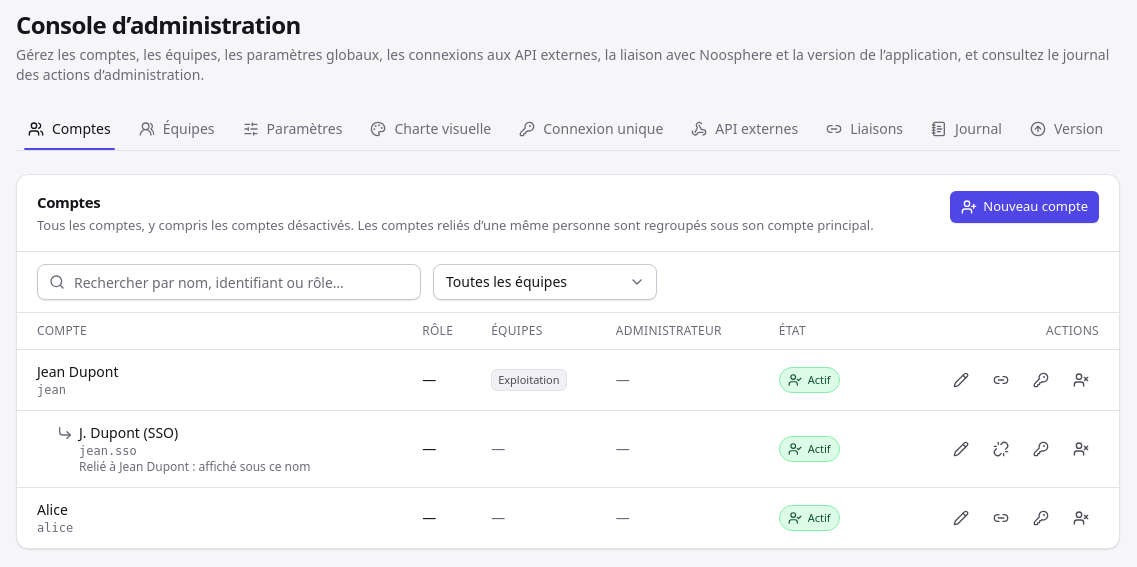
Test: Console d’administration › filtre les comptes par équipe, au niveau de la personne
The image size is (1137, 567).
expect the text "Alice" is shown: met, box x1=37 y1=500 x2=73 y2=520
Select "Exploitation" in the dropdown named "Filtrer par équipe" at (545, 282), box x1=433 y1=264 x2=657 y2=300
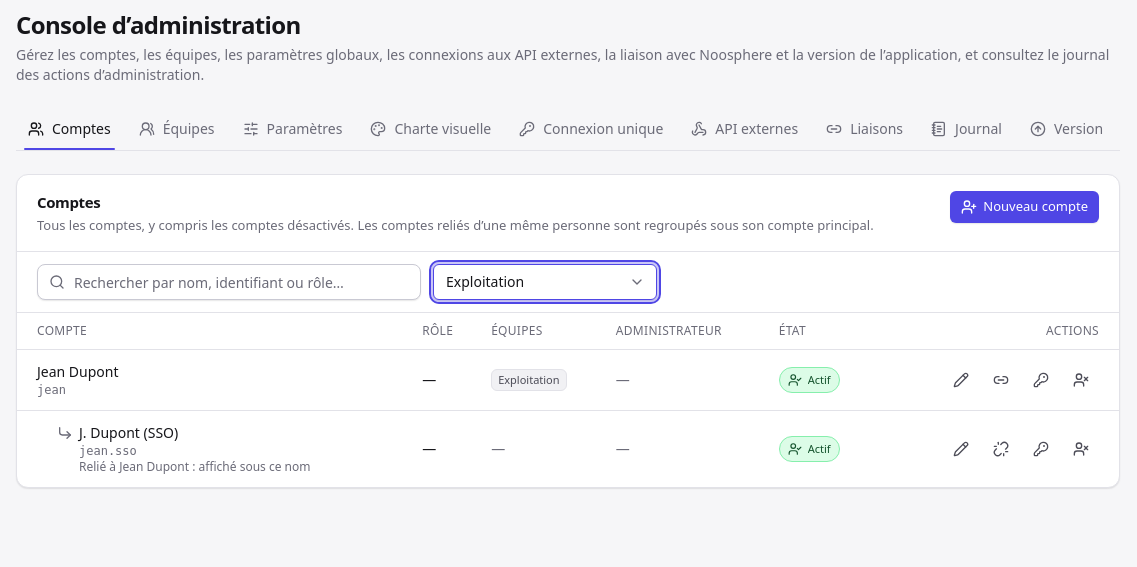
expect the text "J. Dupont (SSO)" is shown: met, box x1=79 y1=423 x2=178 y2=442
expect the text "Alice" is gone: met
